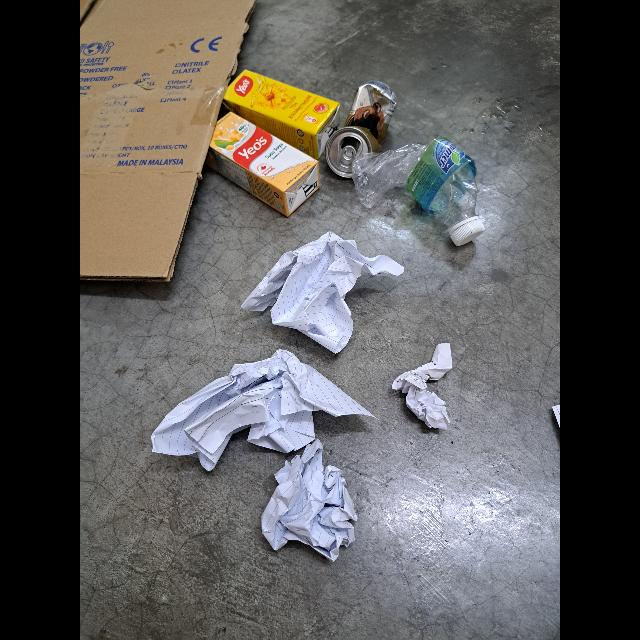aba de lata: (340, 145, 358, 167)
caixinha: (206, 112, 322, 216), (224, 66, 340, 156)
garrafa plástica: (352, 132, 486, 248)
lata: (328, 76, 396, 178)
papel: (152, 346, 378, 466), (235, 230, 408, 354), (259, 438, 355, 562), (391, 342, 453, 432), (550, 399, 560, 447)
papelão: (80, 0, 258, 282)
tampa plástica: (448, 214, 488, 250)
